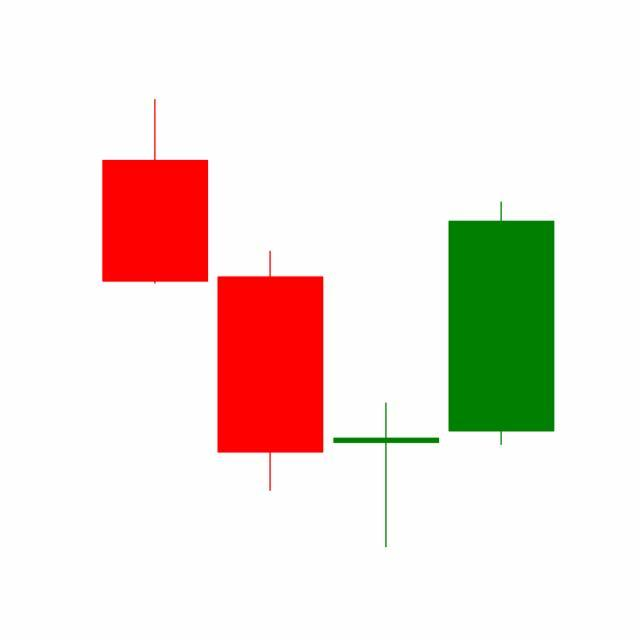Three Inside Up-Down: (211, 198, 555, 549)
